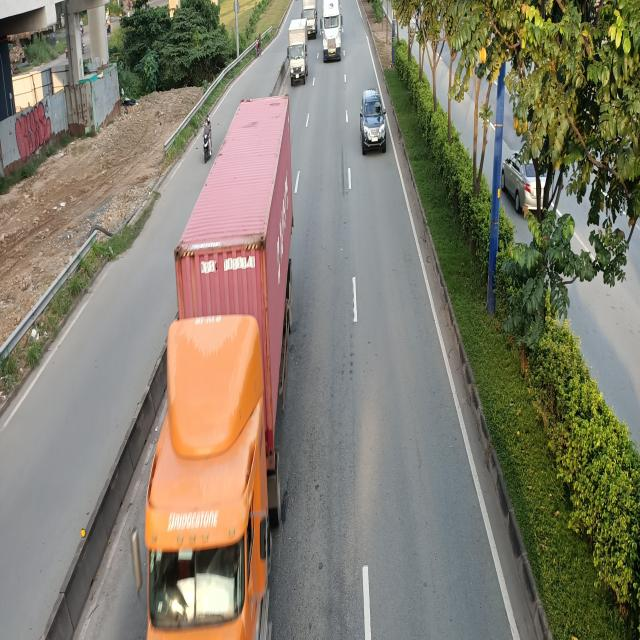car: (358, 89, 386, 152)
container: (133, 94, 301, 640), (322, 0, 345, 60)
truck: (286, 18, 308, 84), (302, 0, 319, 37)
